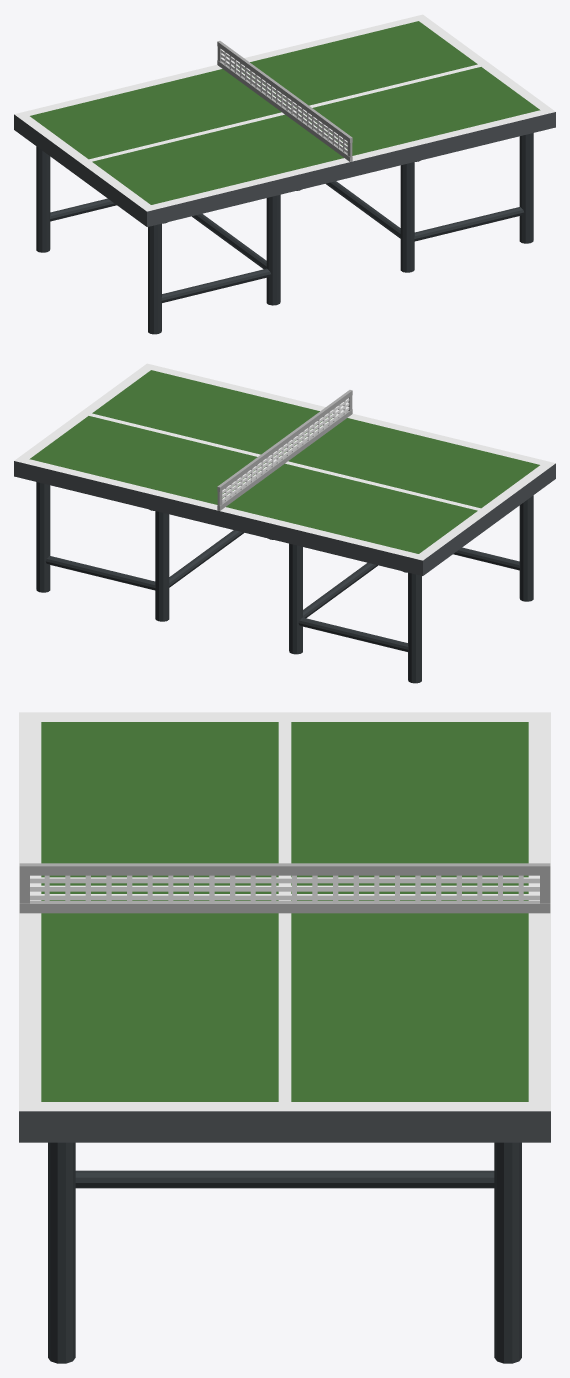
The model's file is SM_Props_PingPong_01.fbx.
3 views of the same model, one above another, from view 1: azimuth 30°, elevation 25°; view 2: azimuth 150°, elevation 25°; view 3: azimuth 270°, elevation 25° (orthographic). The views are drawn at different scales.
Parts seen in each view (by area): view 1: SM_Props_PingPong_01; view 2: SM_Props_PingPong_01; view 3: SM_Props_PingPong_01.
Boxes of the visible parts, bbox=[...] form: SM_Props_PingPong_01: bbox=[14, 14, 555, 334]; SM_Props_PingPong_01: bbox=[14, 363, 555, 683]; SM_Props_PingPong_01: bbox=[19, 712, 550, 1363].
Size of the model in its own units: 2.75 by 1 by 1.55.
